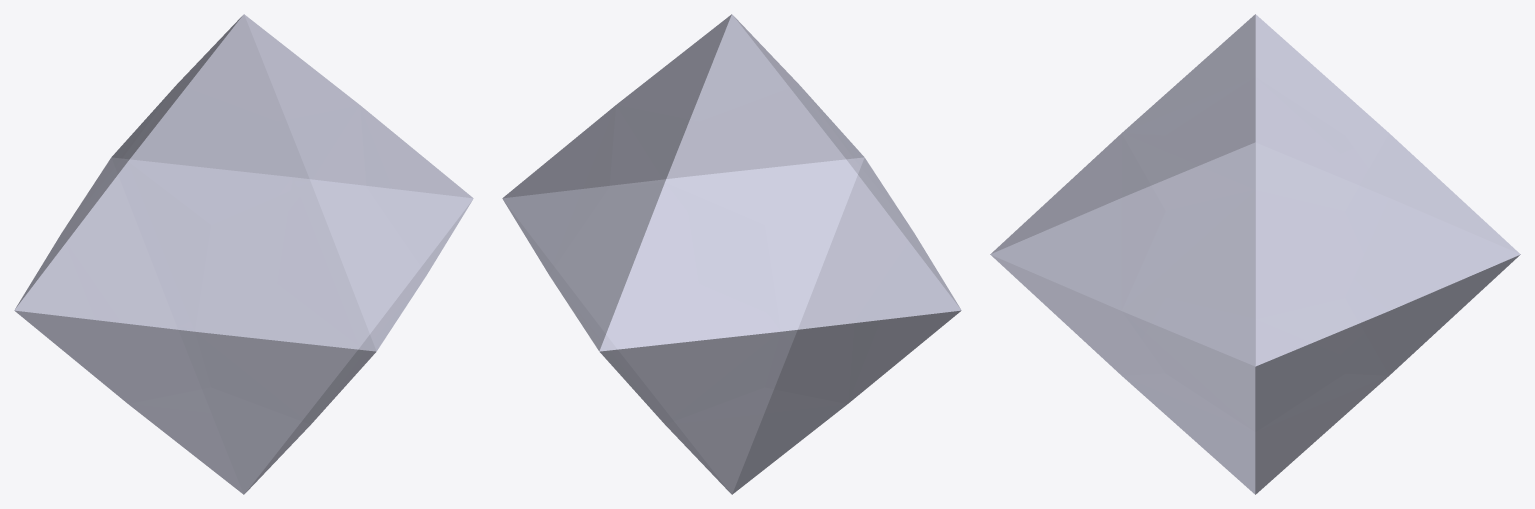
The model's file is октаэдр.fbx.
3 renders of one model, left to right at view 1: azimuth 30°, elevation 25°; view 2: azimuth 150°, elevation 25°; view 3: azimuth 270°, elevation 25°, orthographic.
Parts seen in each view (by area): view 1: О__аэ__; view 2: О__аэ__; view 3: О__аэ__.
Part boxes in pixels (x1,y1,x2,y2): О__аэ__: [14, 14, 473, 494]; О__аэ__: [502, 14, 961, 494]; О__аэ__: [990, 14, 1520, 494].
Size of the model in its own units: 200 by 200 by 200.
